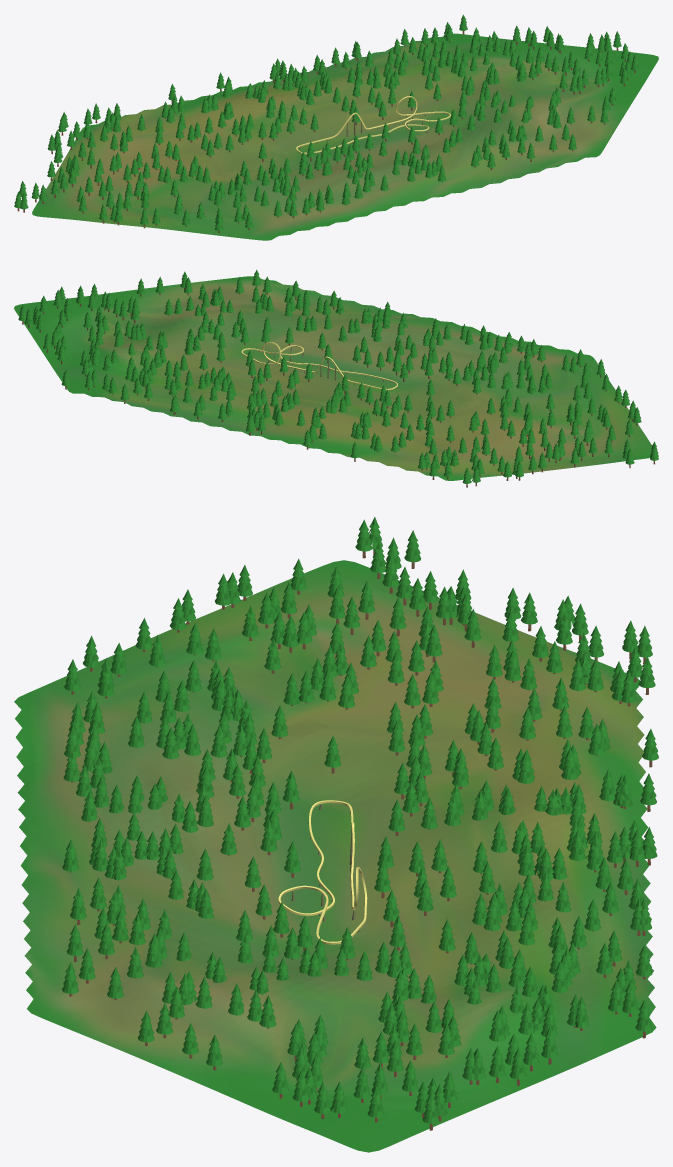
File: Floresta.fbx
3 renders of one model, top to bottom at view 1: azimuth 30°, elevation 25°; view 2: azimuth 150°, elevation 25°; view 3: azimuth 270°, elevation 25°, orthographic. The views are drawn at different scales.
Parts seen in each view (by area): view 1: chao, arvores, montanha; view 2: chao, arvores, montanha; view 3: chao, arvores, montanha.
Part boxes in pixels (x1,y1,x2,y2): chao: (32, 33, 658, 240); arvores: (14, 14, 639, 232); montanha: (296, 96, 450, 154); chao: (14, 276, 651, 480); arvores: (18, 269, 658, 487); montanha: (241, 341, 397, 390); chao: (14, 560, 656, 1152); arvores: (62, 517, 658, 1130); montanha: (278, 800, 367, 944).
Bounding box in the file's own units: 42452 × 1658 × 19237.
